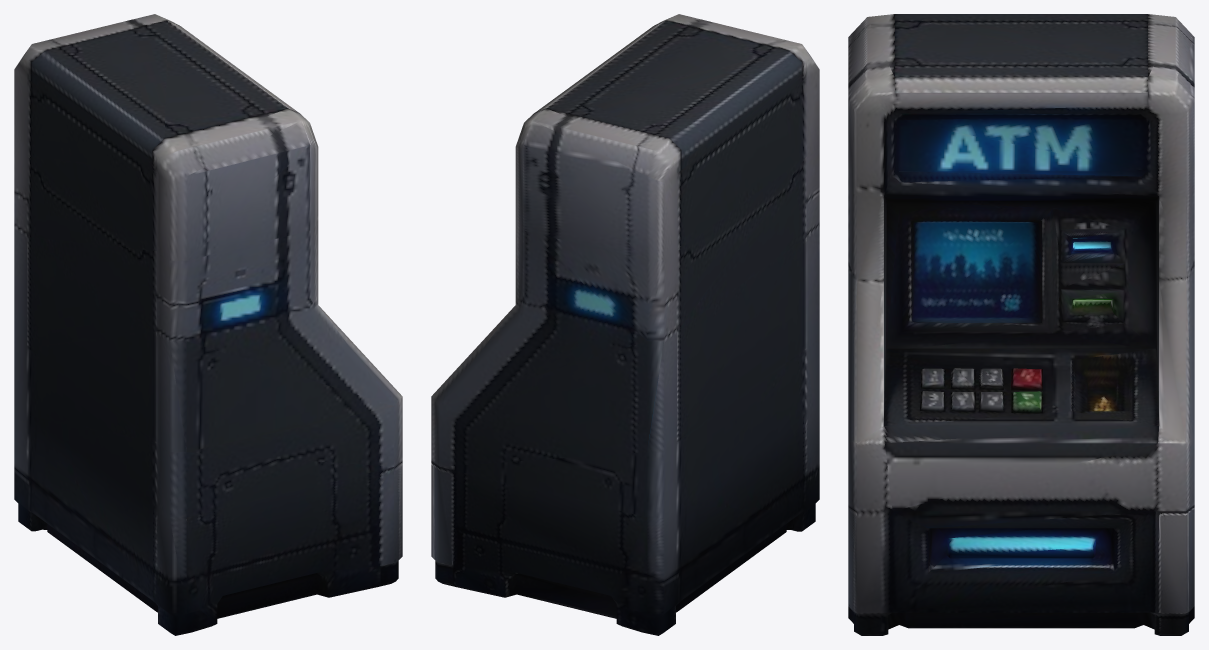
Rendered from atm_01.glb.
The picture shows the model from 3 angles, left to right: view 1: azimuth 30°, elevation 25°; view 2: azimuth 150°, elevation 25°; view 3: azimuth 270°, elevation 25°; orthographic projection. The views are drawn at different scales.
Parts seen in each view (by area): view 1: tripo_node_bcf832f9-bd41-47f4-afc9-47302170e220; view 2: tripo_node_bcf832f9-bd41-47f4-afc9-47302170e220; view 3: tripo_node_bcf832f9-bd41-47f4-afc9-47302170e220.
Part boxes in pixels (x1,y1,x2,y2): tripo_node_bcf832f9-bd41-47f4-afc9-47302170e220: [14, 14, 402, 635]; tripo_node_bcf832f9-bd41-47f4-afc9-47302170e220: [431, 14, 819, 635]; tripo_node_bcf832f9-bd41-47f4-afc9-47302170e220: [848, 14, 1194, 635].
Size of the model in its own units: 0.502 by 0.998 by 0.6113.
1 material, 1 textured.
